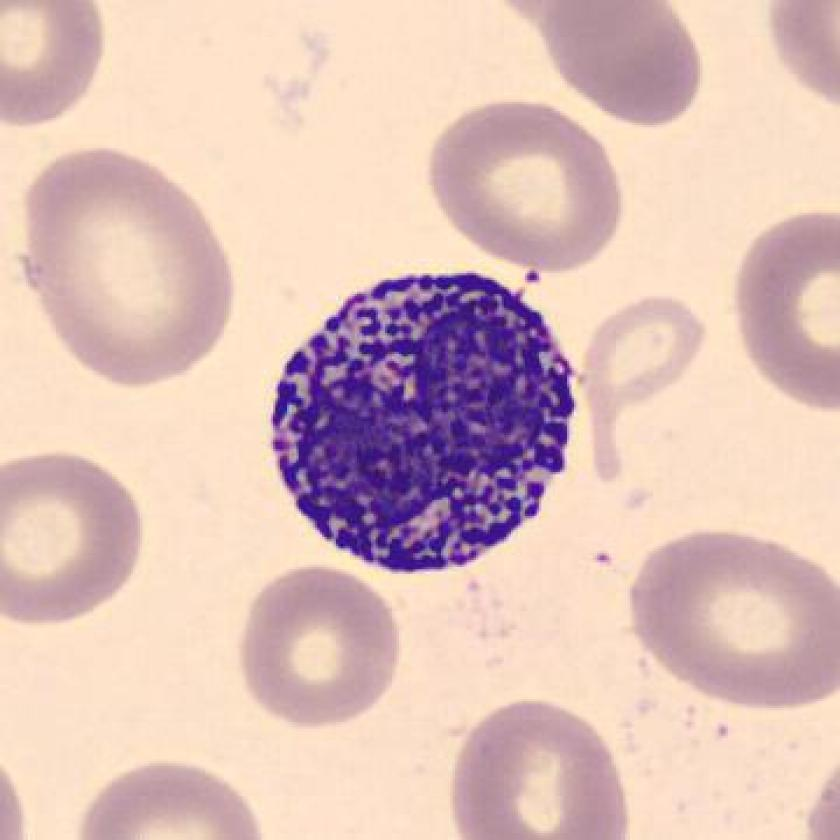basophil: (246, 256, 594, 577)
